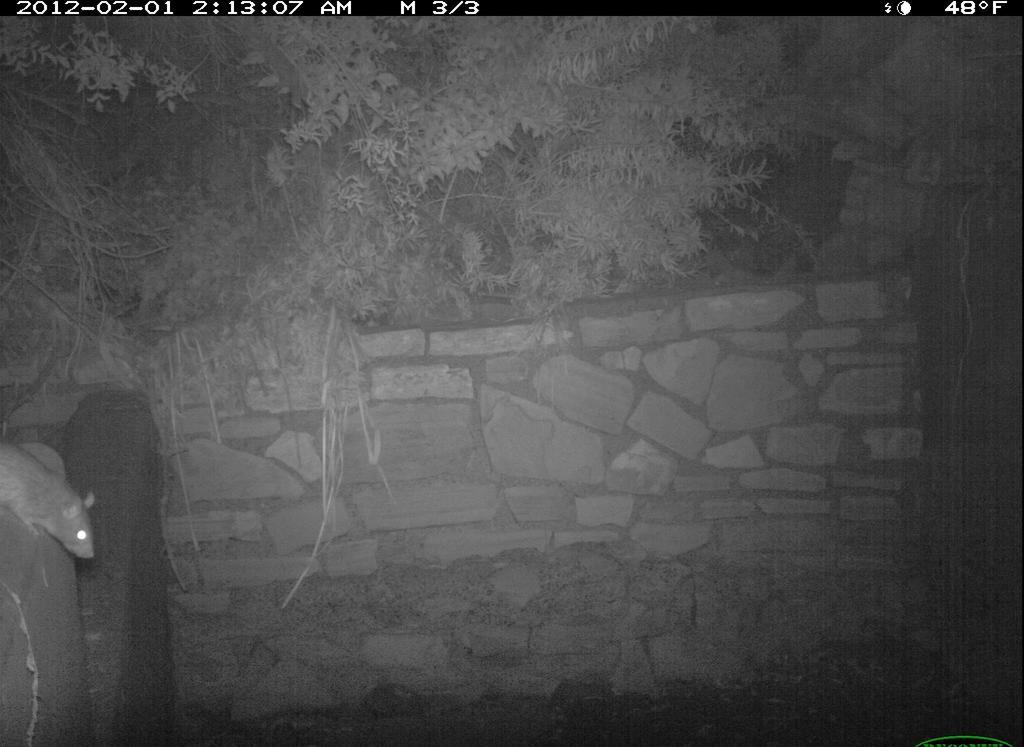rodent: (1, 429, 112, 568)
